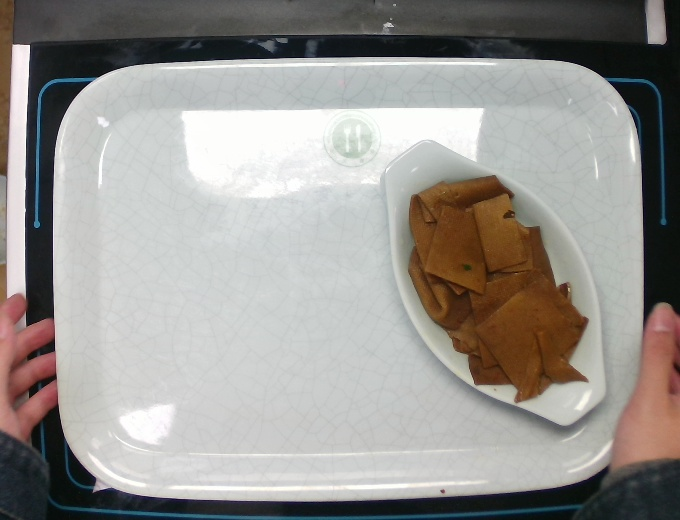JYsf-Yu_Pan: (382, 138, 609, 436)
